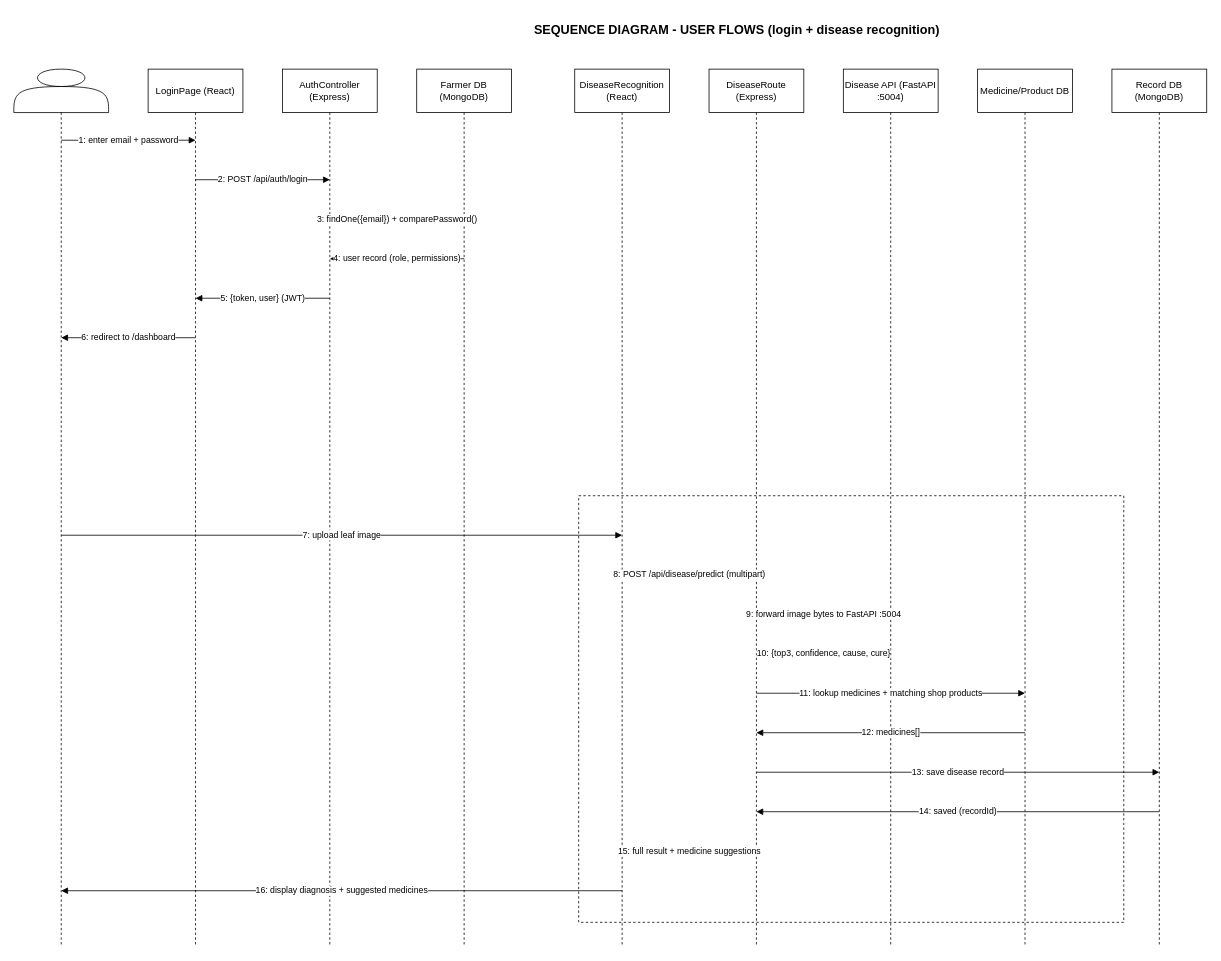
Some shapes in this 1221 by 961 pixel diagram are drawn without their labels. Here are the shapes that lost their labels. From the top down, the centre of each, then its label:
[61,90]: Farmer
[851,708]: alt [recognized / unrecognized disease]
